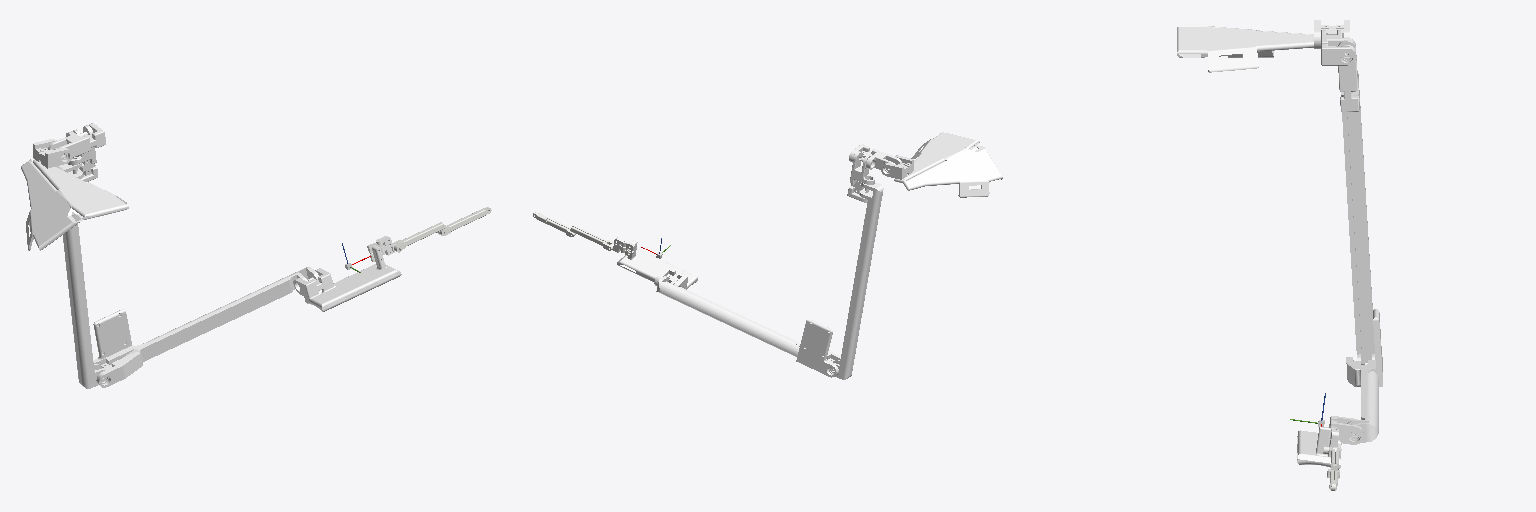
robot.urdf — my-robot:
<?xml version="1.0" ?>
<!-- Generated using onshape-to-robot -->
<!-- Onshape https://cad.onshape.com/documents/30647899d0efca800f6a0b61/w/6367c32608b1610b986f4220/e/82448bde0644faba4511c9d2 -->
<robot name="my-robot">
  <link name="base_link"/>
  <joint name="base_to_shoulder_pitch" type="fixed">
    <origin xyz="-0.600072 -0.15 0.3178" rpy="0 0 0"/>
    <parent link="base_link"/>
    <child link="shoulder_pitch"/>
  </joint>
  <!-- Link shoulder_pitch -->
  <link name="shoulder_pitch">
    <inertial>
      <origin xyz="0 0 0" rpy="0 0 0"/>
      <mass value="1e-09"/>
      <inertia ixx="1e-09" ixy="0" ixz="0" iyy="1e-09" iyz="0" izz="1e-09"/>
    </inertial>
    <!-- Part shoulder -->
    <visual>
      <origin xyz="-0.319917 -0.188041 -0.0739695" rpy="1.73941e-11 -2.77556e-17 -3.14159"/>
      <geometry>
        <mesh filename="package://meshes_exo_left/shoulder.stl"/>
      </geometry>
      <material name="shoulder_material">
        <color rgba="1 1 1 1"/>
      </material>
    </visual>
    <collision>
      <origin xyz="-0.319917 -0.188041 -0.0739695" rpy="1.73941e-11 -2.77556e-17 -3.14159"/>
      <geometry>
        <mesh filename="package://meshes_exo_left/shoulder.stl"/>
      </geometry>
    </collision>
    <!-- Part shoulder_2 -->
    <visual>
      <origin xyz="-0.319917 -0.188041 -0.0739695" rpy="1.73941e-11 1.7367e-11 3.14159"/>
      <geometry>
        <mesh filename="package://meshes_exo_left/shoulder__2.stl"/>
      </geometry>
      <material name="shoulder_2_material">
        <color rgba="1 1 1 1"/>
      </material>
    </visual>
    <collision>
      <origin xyz="-0.319917 -0.188041 -0.0739695" rpy="1.73941e-11 1.7367e-11 3.14159"/>
      <geometry>
        <mesh filename="package://meshes_exo_left/shoulder__2.stl"/>
      </geometry>
    </collision>
  </link>
  <!-- Link shoulder_yaw -->
  <link name="shoulder_yaw">
    <inertial>
      <origin xyz="0 0 0" rpy="0 0 0"/>
      <mass value="1e-09"/>
      <inertia ixx="1e-09" ixy="0" ixz="0" iyy="1e-09" iyz="0" izz="1e-09"/>
    </inertial>
    <!-- Part shoulder_3 -->
    <visual>
      <origin xyz="0.337111 0.085895 0.174004" rpy="1.5708 4.85145e-12 -5.68355e-18"/>
      <geometry>
        <mesh filename="package://meshes_exo_left/shoulder__3.stl"/>
      </geometry>
      <material name="shoulder_3_material">
        <color rgba="1 1 1 1"/>
      </material>
    </visual>
    <collision>
      <origin xyz="0.337111 0.085895 0.174004" rpy="1.5708 4.85145e-12 -5.68355e-18"/>
      <geometry>
        <mesh filename="package://meshes_exo_left/shoulder__3.stl"/>
      </geometry>
    </collision>
  </link>
  <!-- Link shoulder_roll -->
  <link name="shoulder_roll">
    <inertial>
      <origin xyz="0 0 0" rpy="0 0 0"/>
      <mass value="1e-09"/>
      <inertia ixx="1e-09" ixy="0" ixz="0" iyy="1e-09" iyz="0" izz="1e-09"/>
    </inertial>
    <!-- Part shoulder_4 -->
    <visual>
      <origin xyz="0.188947 -0.0970719 0.361641" rpy="-1.62911 -1.5708 0"/>
      <geometry>
        <mesh filename="package://meshes_exo_left/shoulder__4.stl"/>
      </geometry>
      <material name="shoulder_4_material">
        <color rgba="1 1 1 1"/>
      </material>
    </visual>
    <collision>
      <origin xyz="0.188947 -0.0970719 0.361641" rpy="-1.62911 -1.5708 0"/>
      <geometry>
        <mesh filename="package://meshes_exo_left/shoulder__4.stl"/>
      </geometry>
    </collision>
  </link>
  <!-- Link elbow_flex -->
  <link name="elbow_flex">
    <inertial>
      <origin xyz="0 0 0" rpy="0 0 0"/>
      <mass value="1e-09"/>
      <inertia ixx="1e-09" ixy="0" ixz="0" iyy="1e-09" iyz="0" izz="1e-09"/>
    </inertial>
    <!-- Part shoulder_5 -->
    <visual>
      <origin xyz="0.358661 0.193894 -0.0611064" rpy="1.78388e-17 2.53007e-17 3.50616e-18"/>
      <geometry>
        <mesh filename="package://meshes_exo_left/shoulder__5.stl"/>
      </geometry>
      <material name="shoulder_5_material">
        <color rgba="1 1 1 1"/>
      </material>
    </visual>
    <collision>
      <origin xyz="0.358661 0.193894 -0.0611064" rpy="1.78388e-17 2.53007e-17 3.50616e-18"/>
      <geometry>
        <mesh filename="package://meshes_exo_left/shoulder__5.stl"/>
      </geometry>
    </collision>
  </link>
  <!-- Link wrist_roll -->
  <link name="wrist_roll">
    <inertial>
      <origin xyz="0 0 0" rpy="0 0 0"/>
      <mass value="1e-09"/>
      <inertia ixx="1e-09" ixy="0" ixz="0" iyy="1e-09" iyz="0" izz="1e-09"/>
    </inertial>
    <!-- Part wrist -->
    <visual>
      <origin xyz="0.370176 -0.154734 0.203442" rpy="1.5708 2.12442e-12 0.0687143"/>
      <geometry>
        <mesh filename="package://meshes_exo_left/wrist.stl"/>
      </geometry>
      <material name="wrist_material">
        <color rgba="1 1 1 1"/>
      </material>
    </visual>
    <collision>
      <origin xyz="0.370176 -0.154734 0.203442" rpy="1.5708 2.12442e-12 0.0687143"/>
      <geometry>
        <mesh filename="package://meshes_exo_left/wrist.stl"/>
      </geometry>
    </collision>
  </link>
  <!-- Link end_effector -->
  <link name="end_effector">
    <inertial>
      <origin xyz="0 0 0" rpy="0 0 0"/>
      <mass value="1e-09"/>
      <inertia ixx="1e-09" ixy="0" ixz="0" iyy="1e-09" iyz="0" izz="1e-09"/>
    </inertial>
    <!-- Part wrist_2 -->
    <visual>
      <origin xyz="0.189619 0.17695 -0.583114" rpy="0.0540298 1.5708 0"/>
      <geometry>
        <mesh filename="package://meshes_exo_left/wrist__2.stl"/>
      </geometry>
      <material name="wrist_2_material">
        <color rgba="0.964706 0.964706 0.952941 1"/>
      </material>
    </visual>
    <collision>
      <origin xyz="0.189619 0.17695 -0.583114" rpy="0.0540298 1.5708 0"/>
      <geometry>
        <mesh filename="package://meshes_exo_left/wrist__2.stl"/>
      </geometry>
    </collision>
    <!-- Part wrist_3 -->
    <visual>
      <origin xyz="0.189345 0.176964 -0.583114" rpy="0.0540298 1.5708 0"/>
      <geometry>
        <mesh filename="package://meshes_exo_left/wrist__3.stl"/>
      </geometry>
      <material name="wrist_3_material">
        <color rgba="1 1 1 1"/>
      </material>
    </visual>
    <collision>
      <origin xyz="0.189345 0.176964 -0.583114" rpy="0.0540298 1.5708 0"/>
      <geometry>
        <mesh filename="package://meshes_exo_left/wrist__3.stl"/>
      </geometry>
    </collision>
    <!-- Part wrist_4 -->
    <visual>
      <origin xyz="0.192193 0.173682 -0.583216" rpy="0.0688698 1.5708 0"/>
      <geometry>
        <mesh filename="package://meshes_exo_left/wrist__4.stl"/>
      </geometry>
      <material name="wrist_4_material">
        <color rgba="1 1 1 1"/>
      </material>
    </visual>
    <collision>
      <origin xyz="0.192193 0.173682 -0.583216" rpy="0.0688698 1.5708 0"/>
      <geometry>
        <mesh filename="package://meshes_exo_left/wrist__4.stl"/>
      </geometry>
    </collision>
    <!-- Part wrist_5 -->
    <visual>
      <origin xyz="0.189768 0.177109 -0.583122" rpy="-1.57084 1.57074 -1.62483"/>
      <geometry>
        <mesh filename="package://meshes_exo_left/wrist__5.stl"/>
      </geometry>
      <material name="wrist_5_material">
        <color rgba="0.964706 0.964706 0.952941 1"/>
      </material>
    </visual>
    <collision>
      <origin xyz="0.189768 0.177109 -0.583122" rpy="-1.57084 1.57074 -1.62483"/>
      <geometry>
        <mesh filename="package://meshes_exo_left/wrist__5.stl"/>
      </geometry>
    </collision>
    <!-- Part wrist_6 -->
    <visual>
      <origin xyz="0.189348 0.177132 -0.583124" rpy="-1.57084 1.57074 -1.62483"/>
      <geometry>
        <mesh filename="package://meshes_exo_left/wrist__6.stl"/>
      </geometry>
      <material name="wrist_6_material">
        <color rgba="0.964706 0.964706 0.952941 1"/>
      </material>
    </visual>
    <collision>
      <origin xyz="0.189348 0.177132 -0.583124" rpy="-1.57084 1.57074 -1.62483"/>
      <geometry>
        <mesh filename="package://meshes_exo_left/wrist__6.stl"/>
      </geometry>
    </collision>
    <!-- Part z -->
    <visual>
      <origin xyz="0.0115311 0.0274691 0.0397266" rpy="3.08756 -1.5708 0"/>
      <geometry>
        <mesh filename="package://meshes_exo_left/z.stl"/>
      </geometry>
      <material name="z_material">
        <color rgba="0.231373 0.380392 0.705882 1"/>
      </material>
    </visual>
    <collision>
      <origin xyz="0.0115311 0.0274691 0.0397266" rpy="3.08756 -1.5708 0"/>
      <geometry>
        <mesh filename="package://meshes_exo_left/z.stl"/>
      </geometry>
    </collision>
    <!-- Part y -->
    <visual>
      <origin xyz="0.0115311 0.0274691 0.0397266" rpy="3.08756 -1.5708 0"/>
      <geometry>
        <mesh filename="package://meshes_exo_left/y.stl"/>
      </geometry>
      <material name="y_material">
        <color rgba="0.372549 0.654902 0.239216 1"/>
      </material>
    </visual>
    <collision>
      <origin xyz="0.0115311 0.0274691 0.0397266" rpy="3.08756 -1.5708 0"/>
      <geometry>
        <mesh filename="package://meshes_exo_left/y.stl"/>
      </geometry>
    </collision>
    <!-- Part part_4 -->
    <visual>
      <origin xyz="0.0115311 0.0274691 0.0397266" rpy="3.08756 -1.5708 0"/>
      <geometry>
        <mesh filename="package://meshes_exo_left/part_4.stl"/>
      </geometry>
      <material name="part_4_material">
        <color rgba="0.917647 0.917647 0.917647 1"/>
      </material>
    </visual>
    <collision>
      <origin xyz="0.0115311 0.0274691 0.0397266" rpy="3.08756 -1.5708 0"/>
      <geometry>
        <mesh filename="package://meshes_exo_left/part_4.stl"/>
      </geometry>
    </collision>
    <!-- Part x -->
    <visual>
      <origin xyz="0.0115311 0.0274691 0.0397266" rpy="3.08756 -1.5708 0"/>
      <geometry>
        <mesh filename="package://meshes_exo_left/x.stl"/>
      </geometry>
      <material name="x_material">
        <color rgba="1 0 0 1"/>
      </material>
    </visual>
    <collision>
      <origin xyz="0.0115311 0.0274691 0.0397266" rpy="3.08756 -1.5708 0"/>
      <geometry>
        <mesh filename="package://meshes_exo_left/x.stl"/>
      </geometry>
    </collision>
  </link>
  <!-- Joint from wrist_roll to end_effector -->
  <joint name="wrist_roll" type="revolute">
    <origin xyz="-0.224547 -0.0154537 0.0169453" rpy="1.5708 0.139345 -1.50208"/>
    <parent link="wrist_roll"/>
    <child link="end_effector"/>
    <axis xyz="0 0 1"/>
    <limit effort="10" velocity="10" lower="-0.716528" upper="0.854268"/>
  </joint>
  <!-- Joint from elbow_flex to wrist_roll -->
  <joint name="elbow_flex" type="revolute">
    <origin xyz="-1.7424e-05 -0.00788072 -0.240892" rpy="-1.5708 2.53007e-17 3.50616e-18"/>
    <parent link="elbow_flex"/>
    <child link="wrist_roll"/>
    <axis xyz="0 0 1"/>
    <limit effort="10" velocity="10" lower="-1.11591" upper="1.32755"/>
  </joint>
  <!-- Joint from shoulder_roll to elbow_flex -->
  <joint name="shoulder_roll" type="revolute">
    <origin xyz="-0.00144298 -0.0247172 0.00296278" rpy="-1.5708 -1.56793 -0.0583134"/>
    <parent link="shoulder_roll"/>
    <child link="elbow_flex"/>
    <axis xyz="0 0 1"/>
    <limit effort="10" velocity="10" lower="-1.57366" upper="1.56793"/>
  </joint>
  <!-- Joint from shoulder_yaw to shoulder_roll -->
  <joint name="shoulder_yaw" type="revolute">
    <origin xyz="-0.0247593 7.34308e-15 -0.0202799" rpy="3.14159 -1.5708 0"/>
    <parent link="shoulder_yaw"/>
    <child link="shoulder_roll"/>
    <axis xyz="0 0 1"/>
    <limit effort="10" velocity="10" lower="-0.290752" upper="1.62911"/>
  </joint>
  <!-- Joint from shoulder_pitch to shoulder_yaw -->
  <joint name="shoulder_pitch" type="revolute">
    <origin xyz="0.017217 -0.0139551 0.0119912" rpy="-1.5708 0.142264 -3.14159"/>
    <parent link="shoulder_pitch"/>
    <child link="shoulder_yaw"/>
    <axis xyz="0 0 1"/>
    <limit effort="10" velocity="10" lower="-1.18946" upper="1.254"/>
  </joint>
  <link name="ee"/>

  <joint name="end_effector_to_ee" type="fixed">
    <parent link="end_effector"/>
    <child link="ee"/>
    <!-- rotate tcp here -->
    <origin xyz="0 0 0" rpy="1.5708 -1.5708 1.5708"/>
  </joint>
</robot>

--- Render facts (derived) ---
3 views of the same robot in one strip: view 1: azimuth 30°, elevation 25°; view 2: azimuth 150°, elevation 25°; view 3: azimuth 270°, elevation 25° (orthographic).
Model my-robot with 8 links and 7 joints (5 revolute, 2 fixed), rooted at base_link, posed every joint at zero.
Visible links, largest first — view 1: shoulder_pitch, wrist_roll, end_effector, elbow_flex, shoulder_yaw, shoulder_roll; view 2: shoulder_pitch, wrist_roll, elbow_flex, end_effector, shoulder_roll, shoulder_yaw; view 3: elbow_flex, shoulder_pitch, end_effector, wrist_roll, shoulder_roll, shoulder_yaw.
Link boxes in pixels (left/top/right/bottom): shoulder_pitch: left=21, top=139, right=128, bottom=250; wrist_roll: left=93, top=267, right=318, bottom=387; end_effector: left=293, top=207, right=491, bottom=311; elbow_flex: left=56, top=163, right=106, bottom=388; shoulder_yaw: left=48, top=123, right=105, bottom=158; shoulder_roll: left=68, top=125, right=97, bottom=181; shoulder_pitch: left=881, top=132, right=1002, bottom=197; wrist_roll: left=656, top=276, right=840, bottom=377; elbow_flex: left=830, top=182, right=883, bottom=379; end_effector: left=533, top=212, right=697, bottom=289; shoulder_roll: left=847, top=151, right=874, bottom=202; shoulder_yaw: left=849, top=144, right=901, bottom=171; elbow_flex: left=1341, top=74, right=1374, bottom=364; shoulder_pitch: left=1177, top=20, right=1354, bottom=72; end_effector: left=1290, top=393, right=1363, bottom=490; wrist_roll: left=1346, top=309, right=1382, bottom=442; shoulder_roll: left=1338, top=40, right=1359, bottom=112; shoulder_yaw: left=1321, top=30, right=1355, bottom=65.
Bounding box of the posed robot: 0.5621 × 0.1651 × 0.2834 m (x, y, z).
Meshes: 15 distinct files referenced, 15 mesh visuals loaded (15 binary STL).
